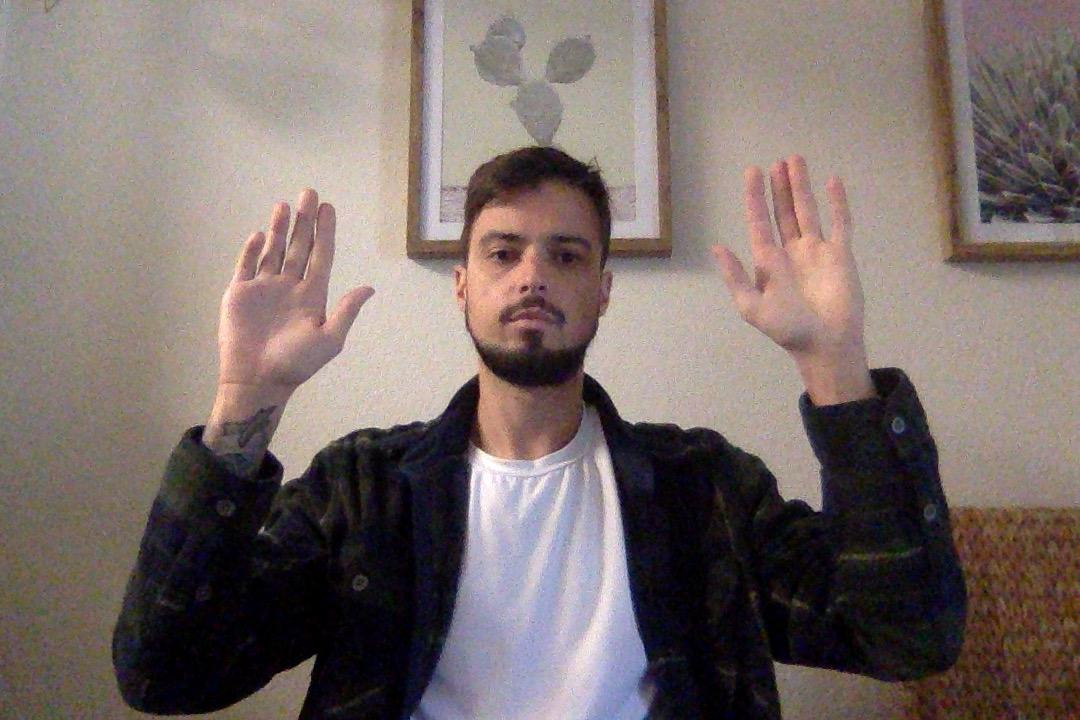Hand-Raised: (694, 139, 893, 402), (197, 180, 390, 424)
